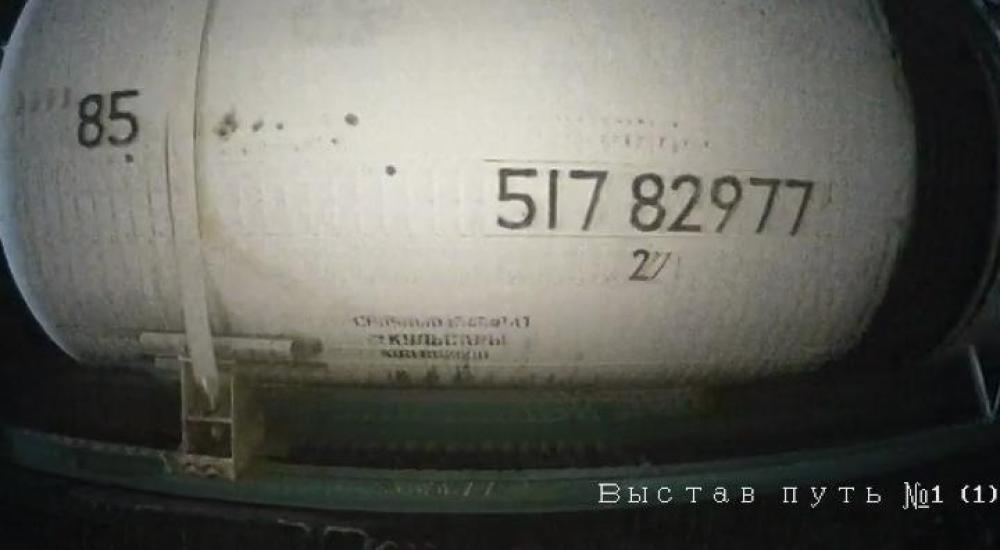Wagon-number: (489, 162, 818, 243)
